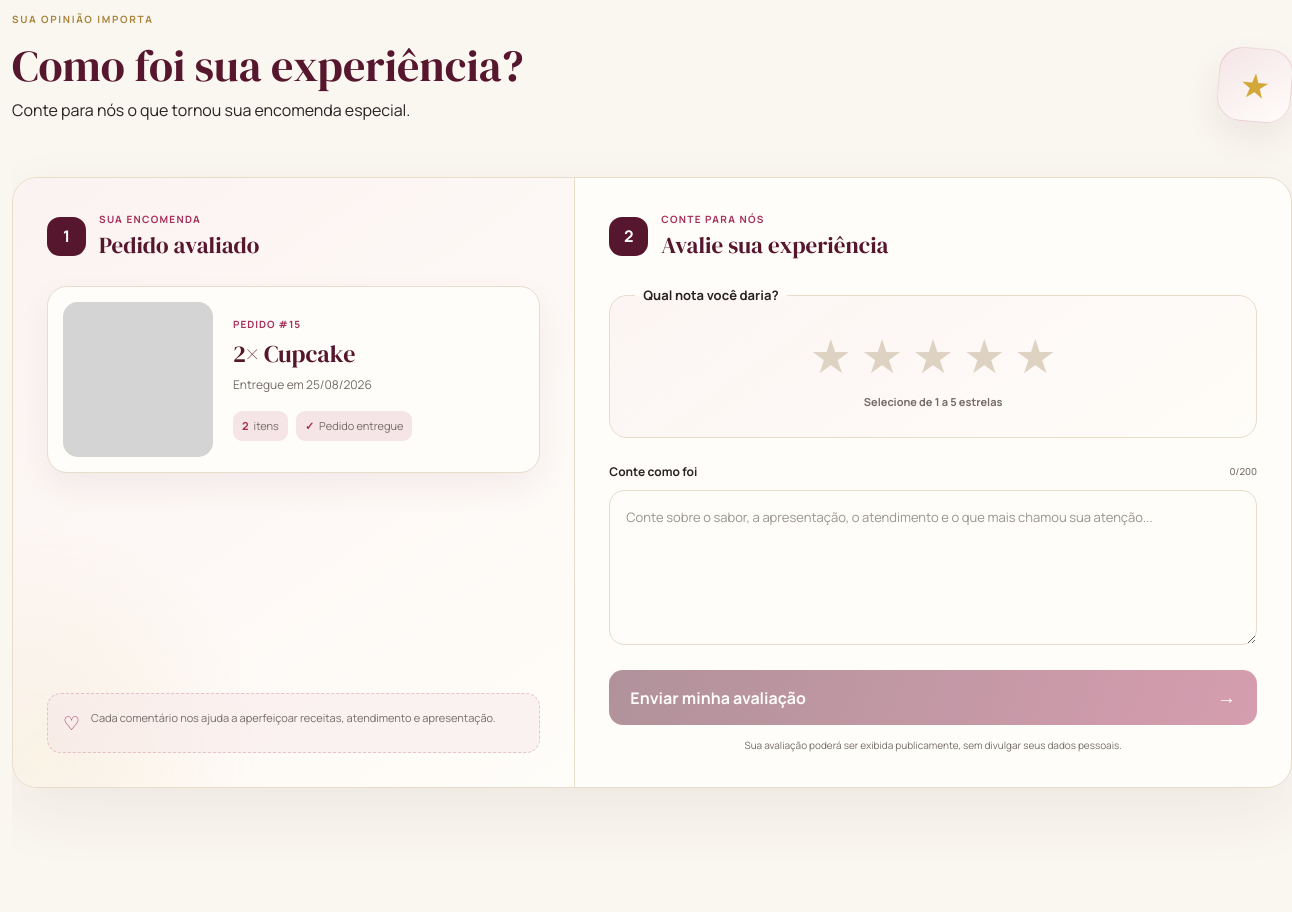
Test case: Review › mostra a descrição ao passar o mouse nas estrelas
The width and height of the screenshot is (1292, 912).
Hover over the button named "5 estrelas".
mouse_move(1035, 356)  # box left=1012, top=330, right=1058, bottom=381
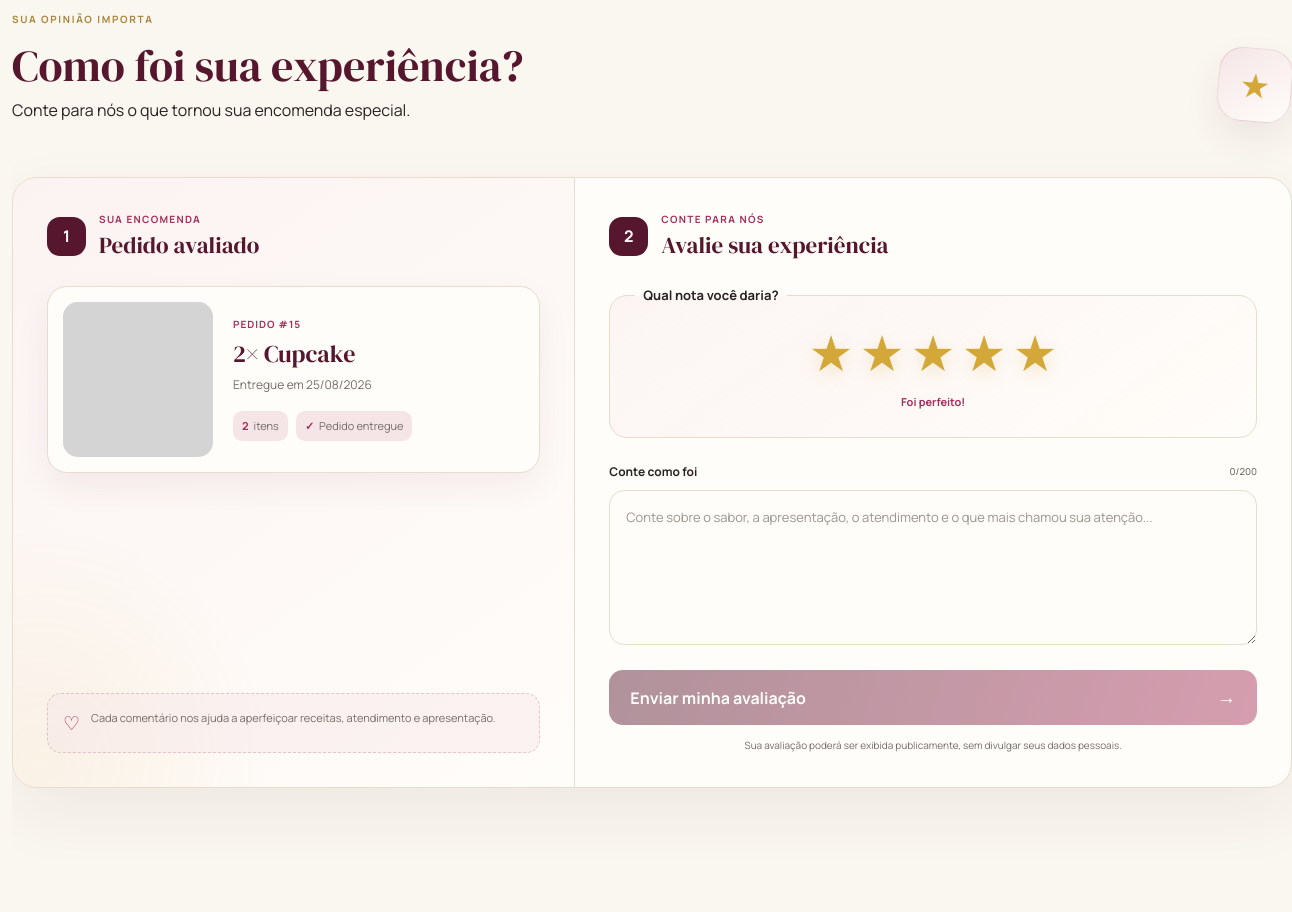
Expected: the text "Foi perfeito!" is shown, left=901, top=394, right=965, bottom=412
Move the pointer off the element showing "★ ★ ★ ★ ★", box left=808, top=330, right=1058, bottom=381
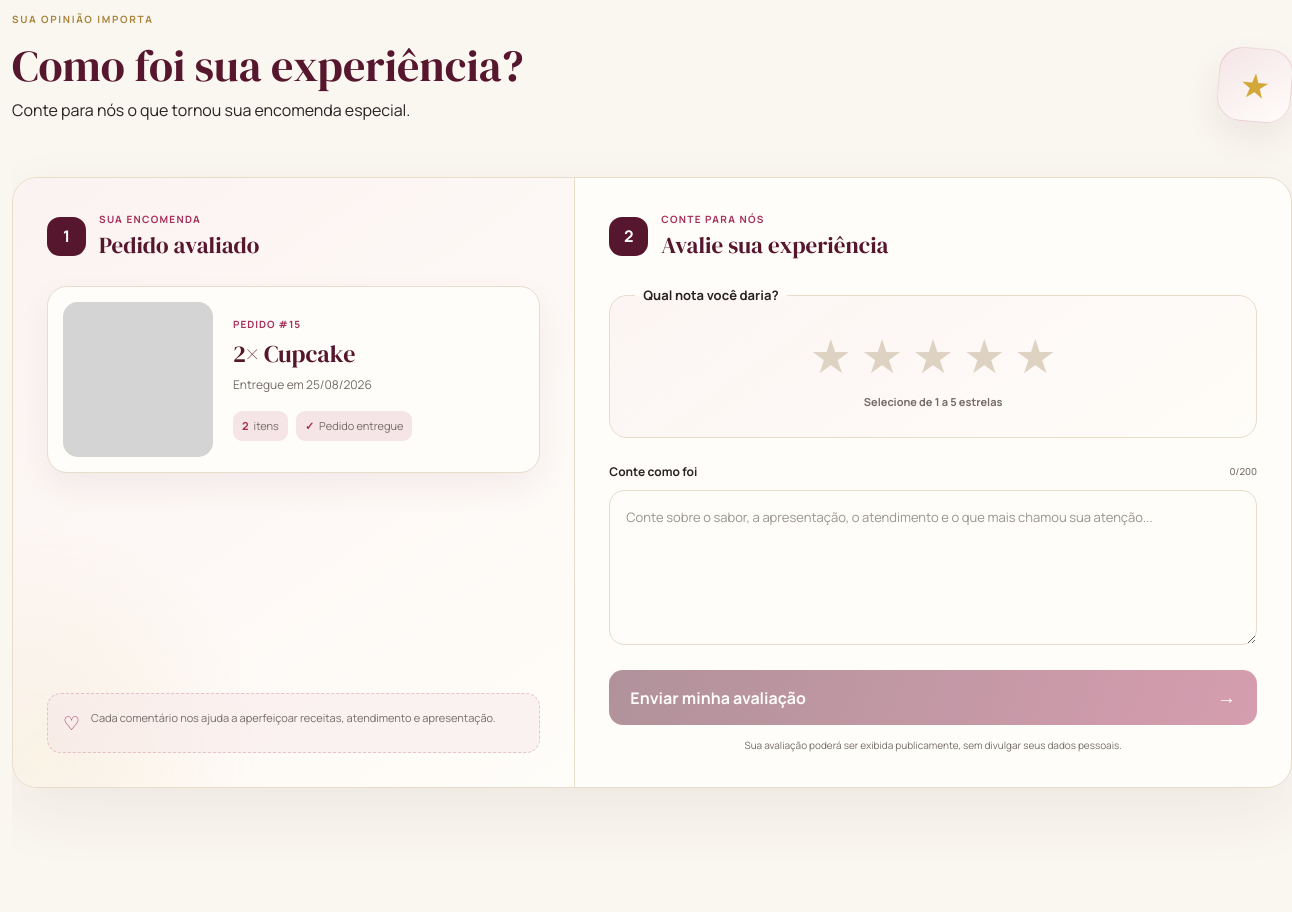
Expected: the text "Selecione de 1 a 5 estrelas" is shown, left=864, top=394, right=1002, bottom=412
